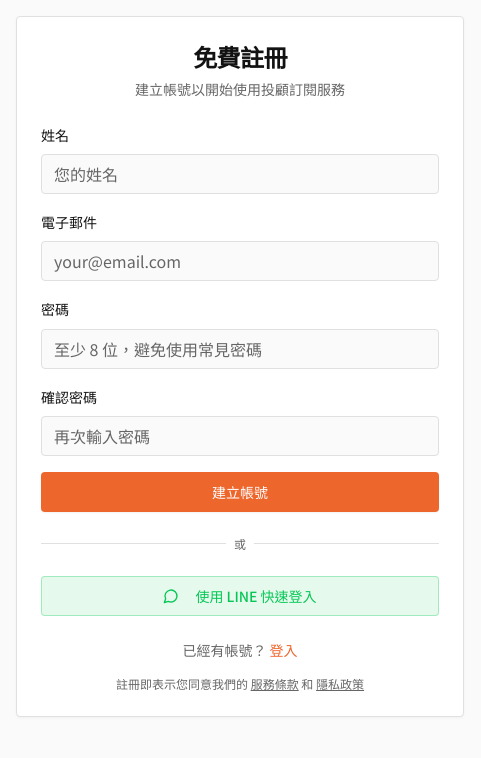
Test: Register form validation › rejects mismatched passwords
This screenshot has width=481, height=758.
Type "Alice" into the field labelled "姓名".
click(240, 174); type("Alice")  # box x1=41 y1=154 x2=439 y2=194
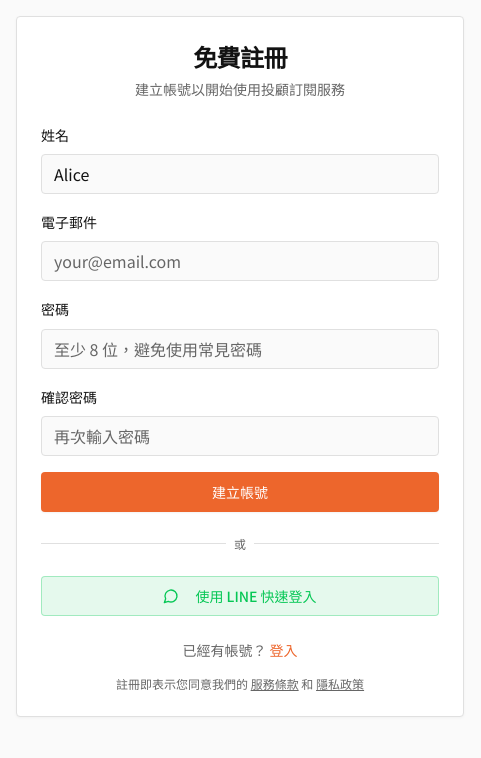
Type "a@b.co" into the field labelled "電子郵件".
click(240, 261); type("a@b.co")  # box x1=41 y1=241 x2=439 y2=281
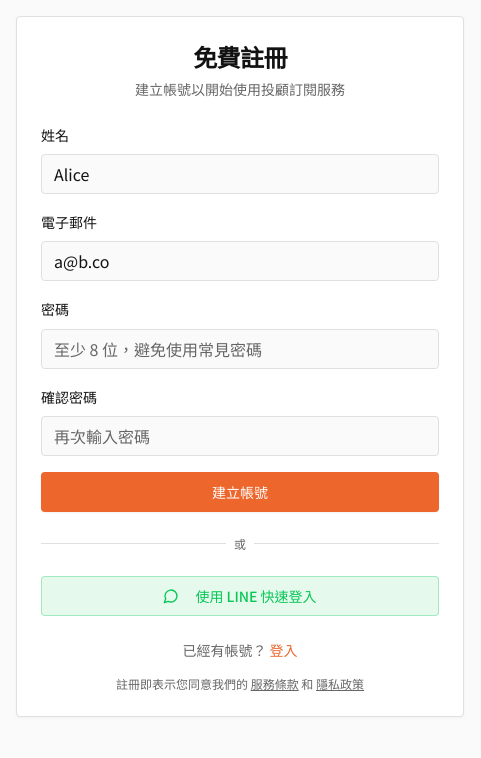
Type "password1" into the password field labelled "密碼".
click(240, 349); type("password1")  # box x1=41 y1=329 x2=439 y2=369
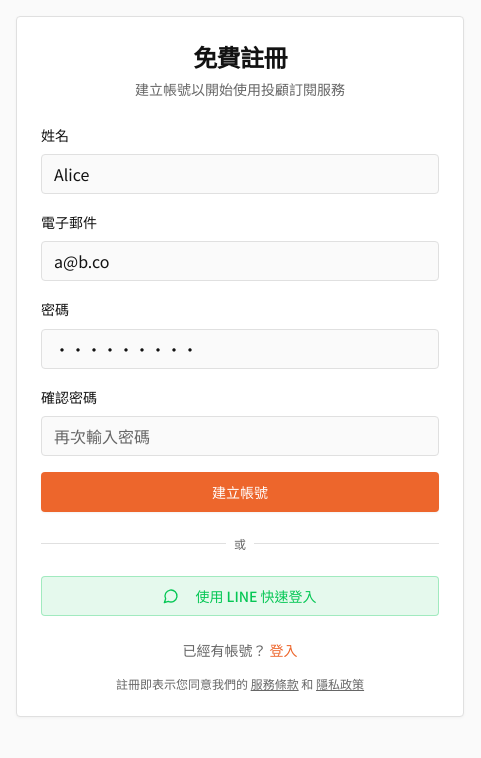
Type "password2" into the password field labelled "確認密碼".
click(240, 436); type("password2")  # box x1=41 y1=416 x2=439 y2=456
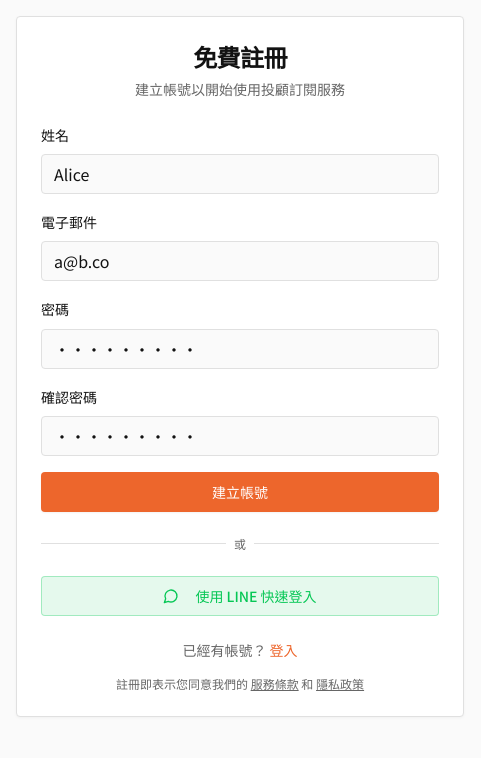
Submit the form "建立帳號", box x1=41 y1=123 x2=439 y2=512
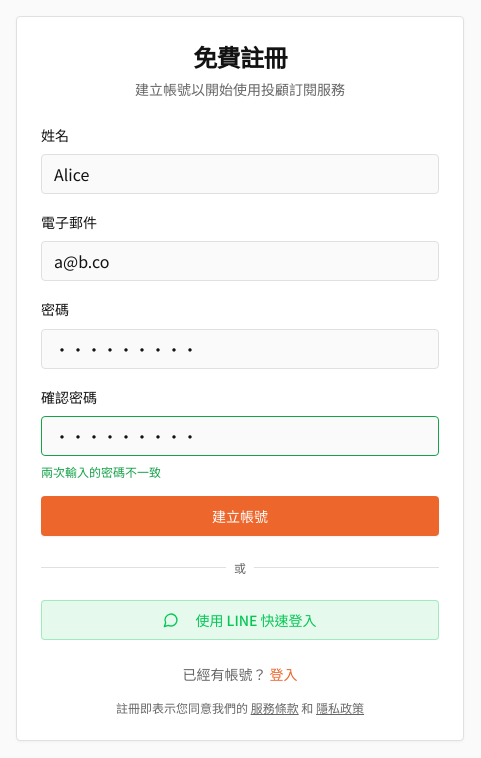
Check: the text "兩次輸入的密碼不一致" is shown, box x1=41 y1=463 x2=161 y2=480
